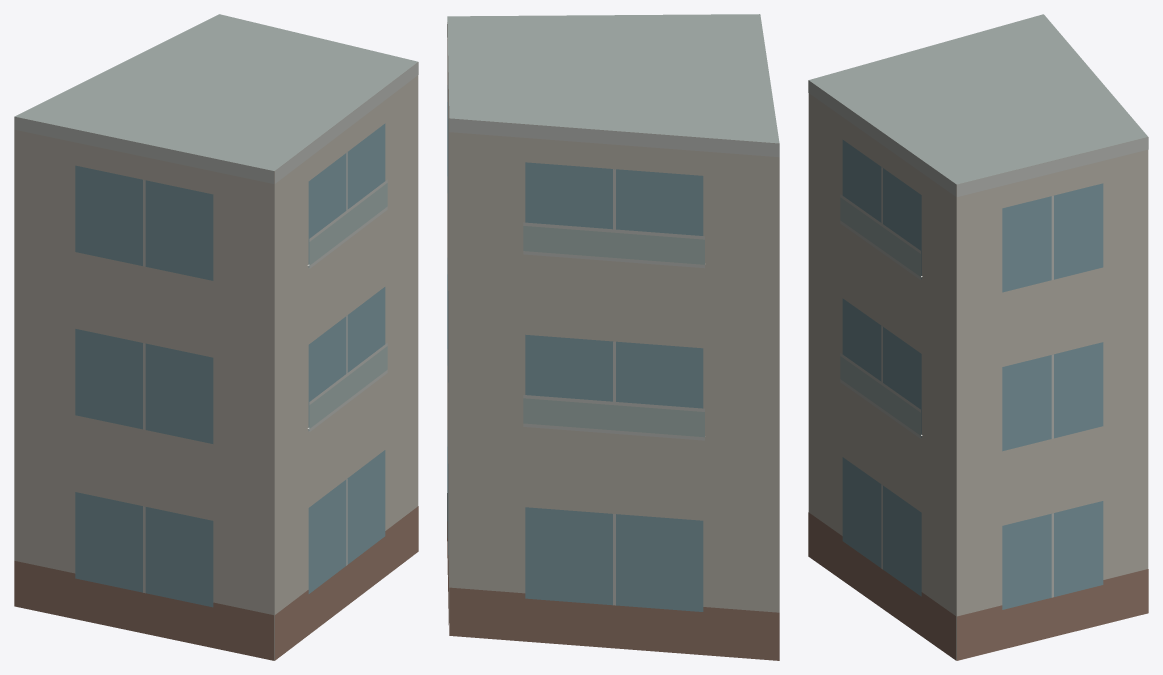
Rendered from survey-upis-32493961.glb.
The picture shows the model from 3 angles, left to right: view 1: azimuth 30°, elevation 25°; view 2: azimuth 150°, elevation 25°; view 3: azimuth 270°, elevation 25°; orthographic projection. The views are drawn at different scales.
Visible parts, largest first — view 1: survey-upis-32493961.tmp; view 2: survey-upis-32493961.tmp; view 3: survey-upis-32493961.tmp.
Boxes of the visible parts, x1,y1,x2,y2 form: survey-upis-32493961.tmp: (14, 14, 418, 660); survey-upis-32493961.tmp: (447, 14, 779, 660); survey-upis-32493961.tmp: (808, 14, 1148, 660).
Bounding box in the file's own units: 7.03 × 9.15 × 5.93.
